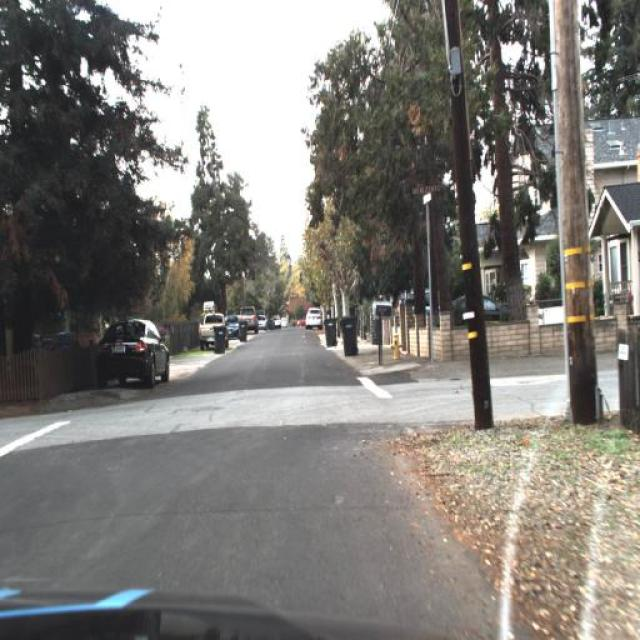car: (88, 316, 172, 392), (93, 318, 172, 383), (440, 292, 526, 326), (394, 286, 446, 322), (196, 310, 226, 354), (198, 311, 224, 350), (237, 301, 261, 334), (303, 302, 326, 333), (222, 315, 243, 344), (302, 306, 324, 332), (237, 306, 258, 332), (224, 316, 244, 342)
